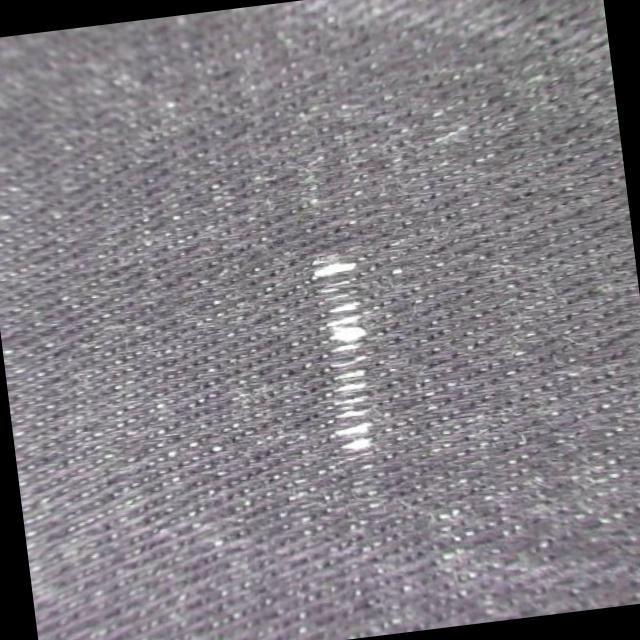Warp_Weft: (302, 242, 382, 466)
